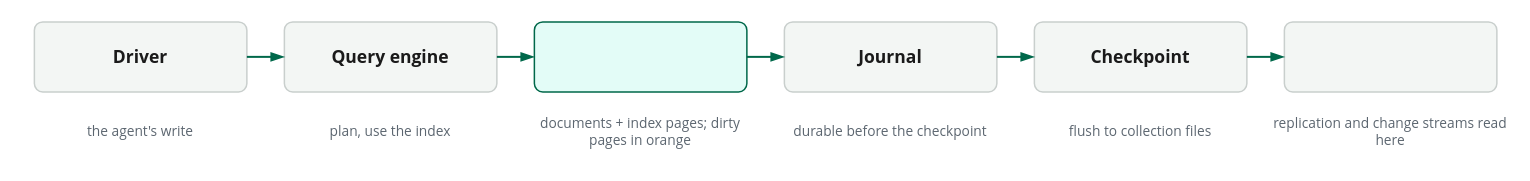
Image size: 1530x181. Some labels were removed from this diagram. Here are the shapes that lost their labels. From the top down, the centre of each, then its label:
[640,56]: WiredTiger cache
[1390,56]: Oplog
